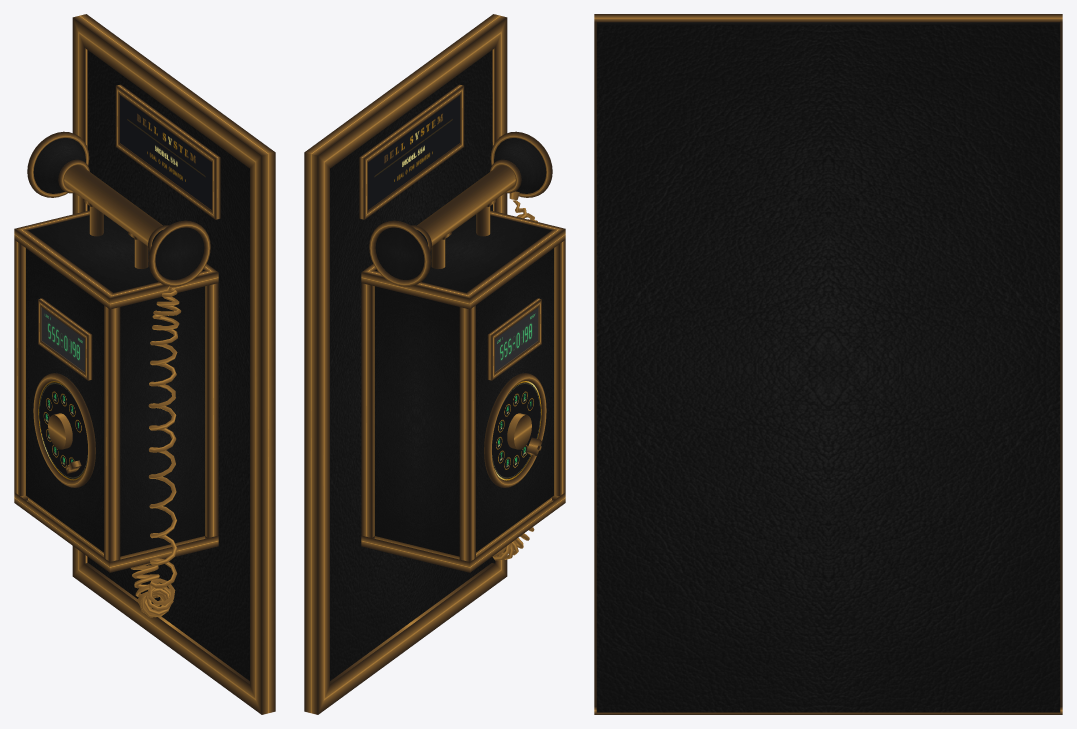
File: wall_phone.glb
3 views of the same model, side by side, from view 1: azimuth 30°, elevation 25°; view 2: azimuth 150°, elevation 25°; view 3: azimuth 270°, elevation 25° (orthographic). The views are drawn at different scales.
Visible parts, largest first — view 1: Vintage_1970s_Rotary_Wall_Telephone_Consolidated; view 2: Vintage_1970s_Rotary_Wall_Telephone_Consolidated; view 3: Vintage_1970s_Rotary_Wall_Telephone_Consolidated.
Boxes of the visible parts, x1,y1,x2,y2 form: Vintage_1970s_Rotary_Wall_Telephone_Consolidated: (14,14,275,714); Vintage_1970s_Rotary_Wall_Telephone_Consolidated: (304,14,565,714); Vintage_1970s_Rotary_Wall_Telephone_Consolidated: (594,14,1062,714).
Size of the model in its own units: 0.148 by 0.62 by 0.38.
Materials: 6 (5 with a texture image).
